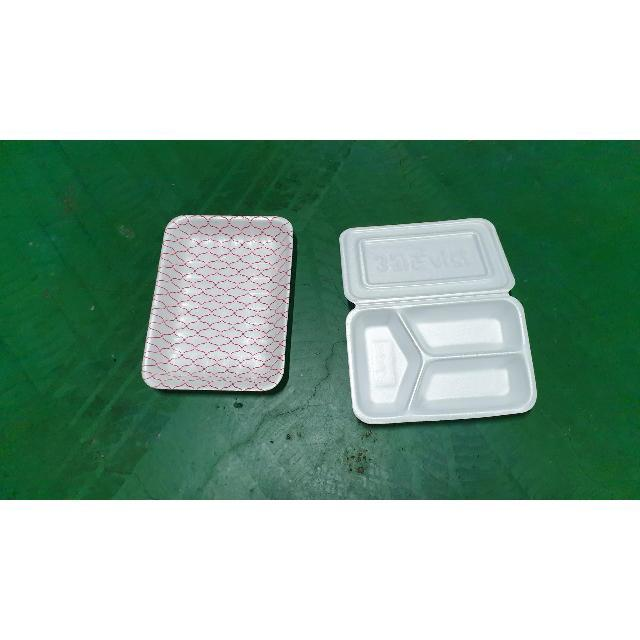Recipiente plastico: (340, 219, 535, 423), (144, 215, 292, 391)
